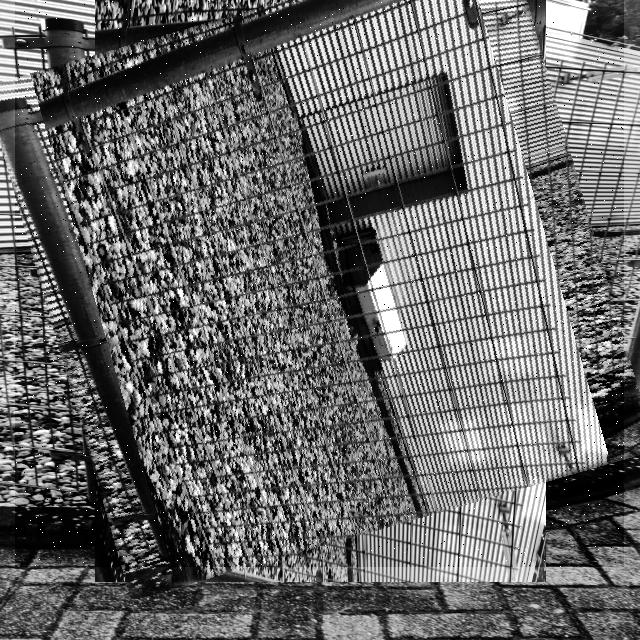fences: (15, 0, 624, 567)
